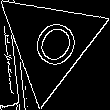O_SW: (19, 9, 81, 76)
